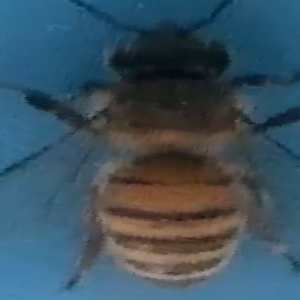bee: (15, 3, 297, 290)
